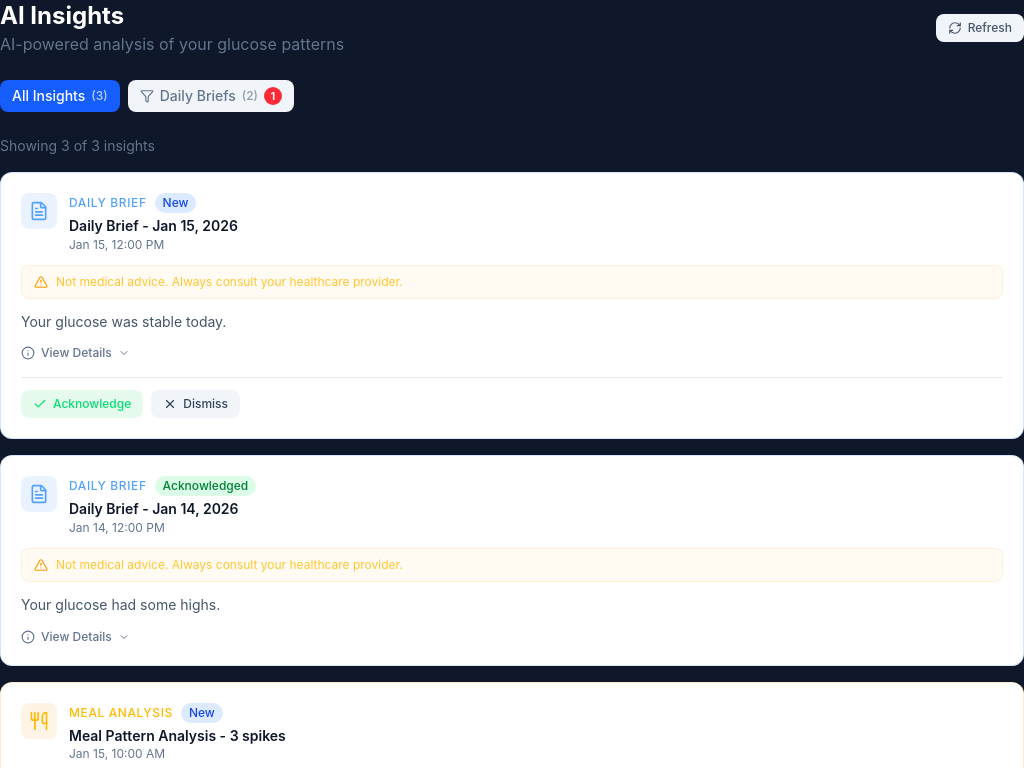
Test: Briefs page filter tabs › filters to only daily briefs when Daily Briefs tab is clicked
Click the tab "Daily Briefs (2) 1" at (211, 96), box [128, 80, 294, 112]
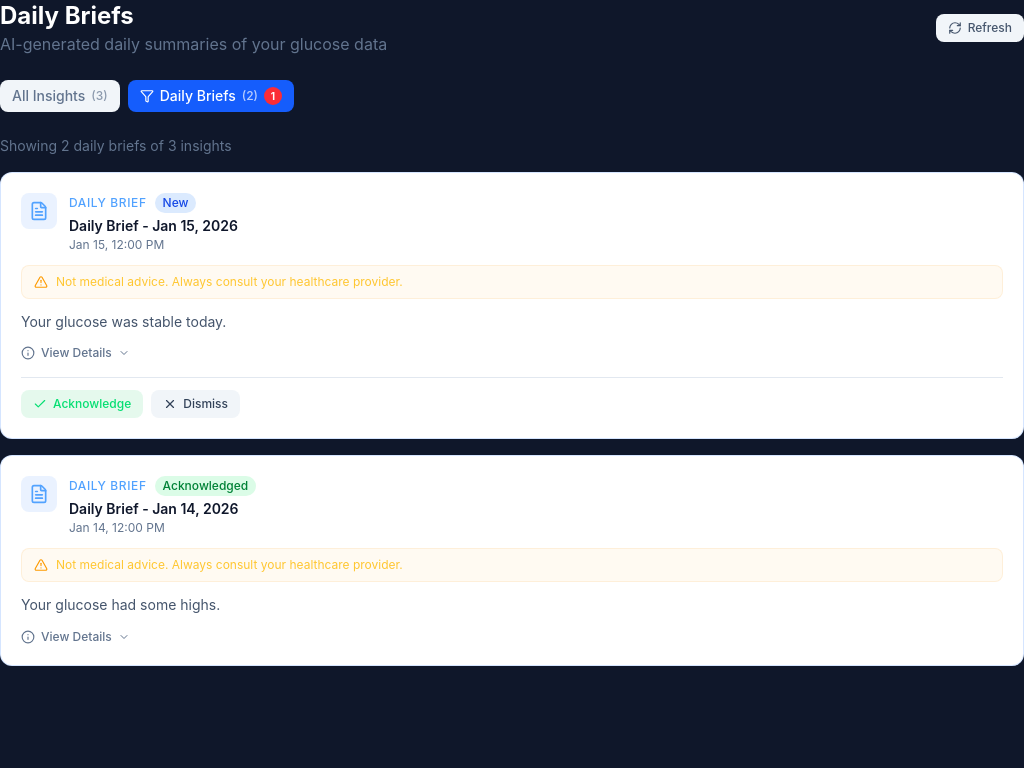
Check: the heading "Daily Briefs" is shown, box [0, 1, 134, 30]
Check: the text "AI-generated daily summaries of your glucose data" is shown, box [0, 32, 387, 56]
Check: the heading "Meal Pattern Analysis - 3 spikes" is gone
